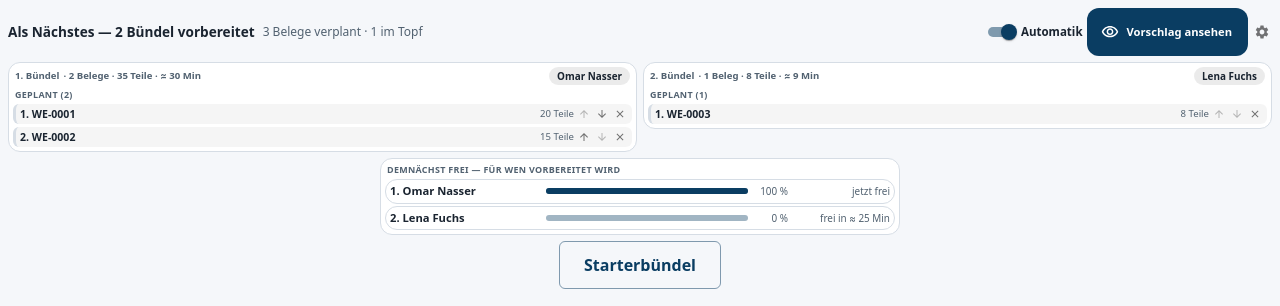
it: VorverteilungPane › Starterbündel-Knopf ersetzt den Vorschau-Hinweis und öffnet die Starter-Ansicht
Click the button "Starterbündel". click: coordinates (640, 265)
box: [559, 241, 721, 289]
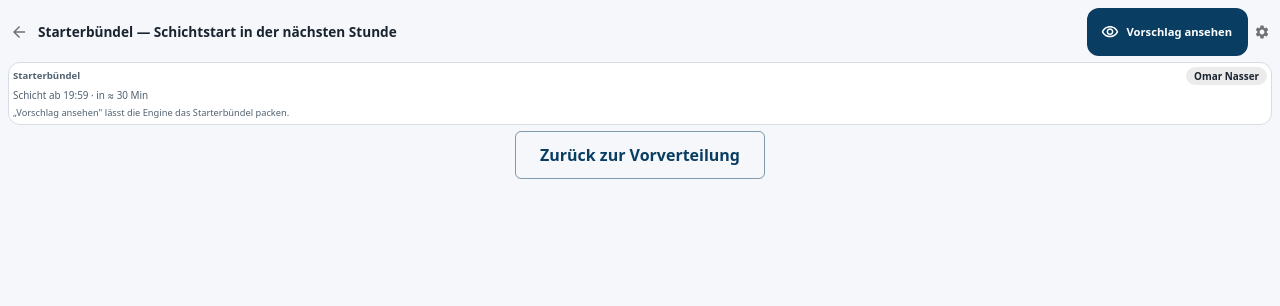
Result: the text "Als Nächstes" is gone
Result: the text "Automatik" is gone
Result: the text "Starterbündel — Schichtstart in der nächsten Stunde" is shown at [38, 22, 397, 42]
Click the button "Zurück zur Vorverteilung". click: coordinates (640, 155)
box: [515, 131, 765, 179]
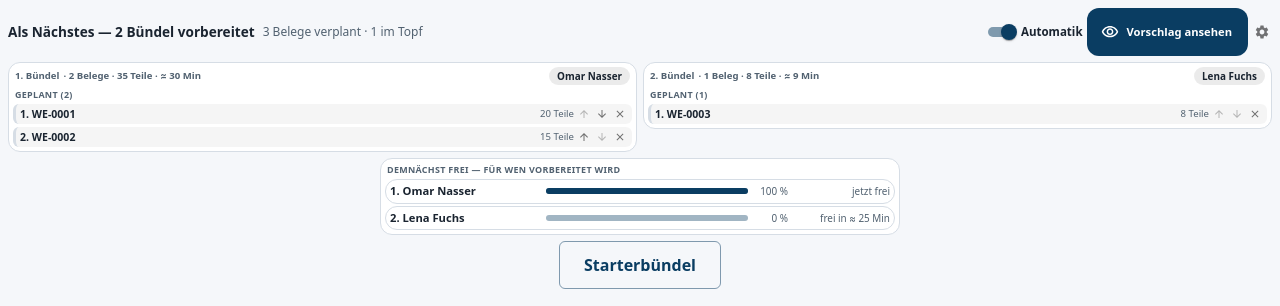
Result: the text "Als Nächstes — 2 Bündel vorbereitet" is shown at [8, 22, 255, 42]
